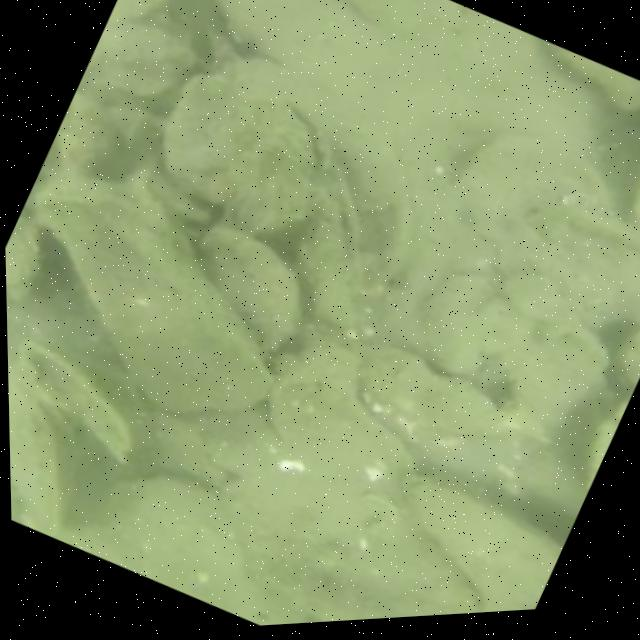Oyster-Closed: (163, 76, 334, 203), (299, 174, 365, 329)
Oyster-Indeterminate: (39, 174, 273, 416), (398, 474, 559, 612), (352, 342, 552, 438), (201, 225, 297, 356), (83, 22, 196, 101), (6, 219, 45, 309), (623, 327, 640, 384)
Oyster-Open: (8, 364, 79, 536)
